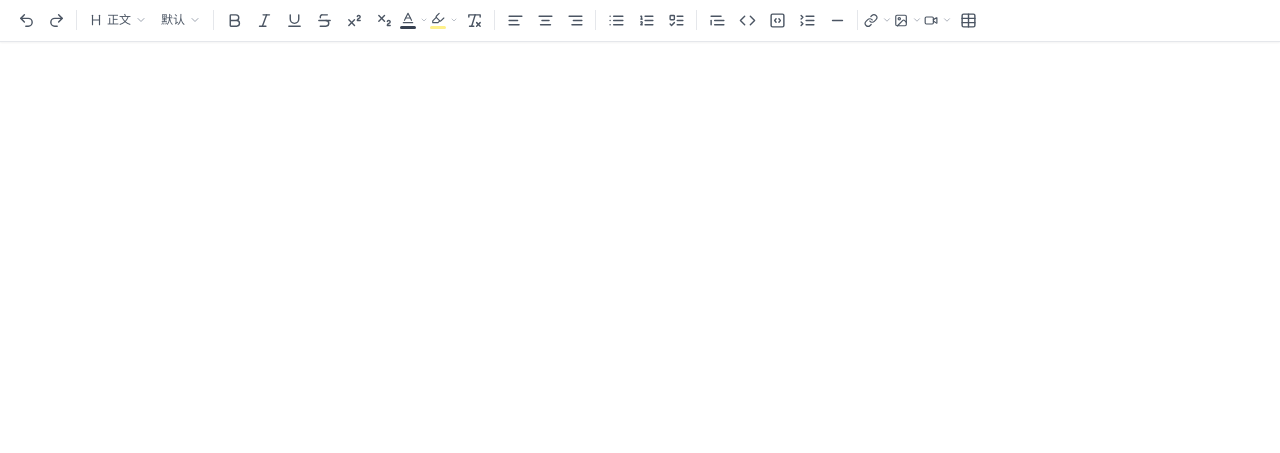
Scenario: the menus › opening one closes another
Click the button with aria-label "字号" at [181, 20], box [155,6,207,34]
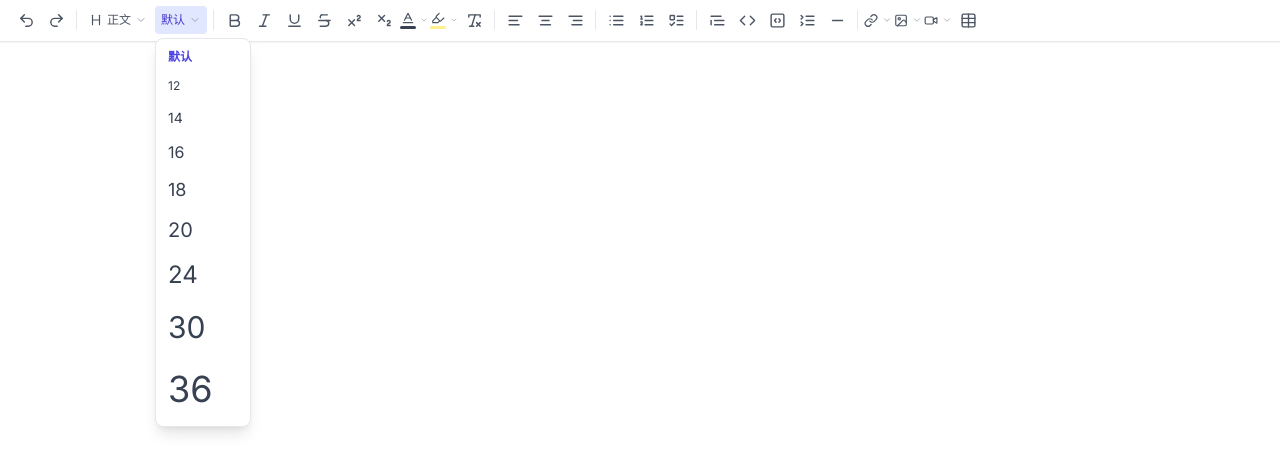
Press the mouse on the button with aria-label "段落样式" at [118, 20], box [83,6,153,34]
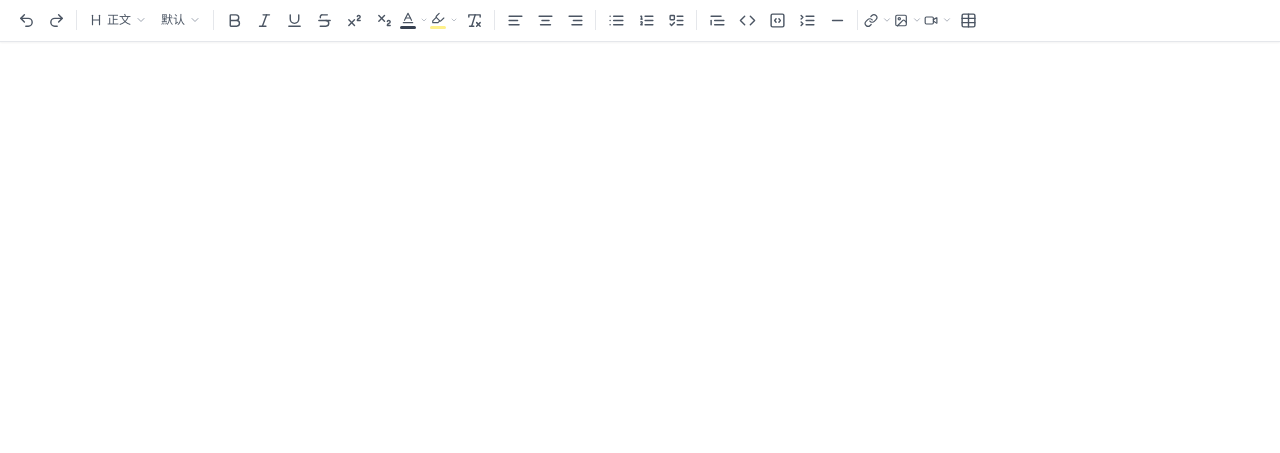
Click the button with aria-label "段落样式" at [118, 20], box [83,6,153,34]
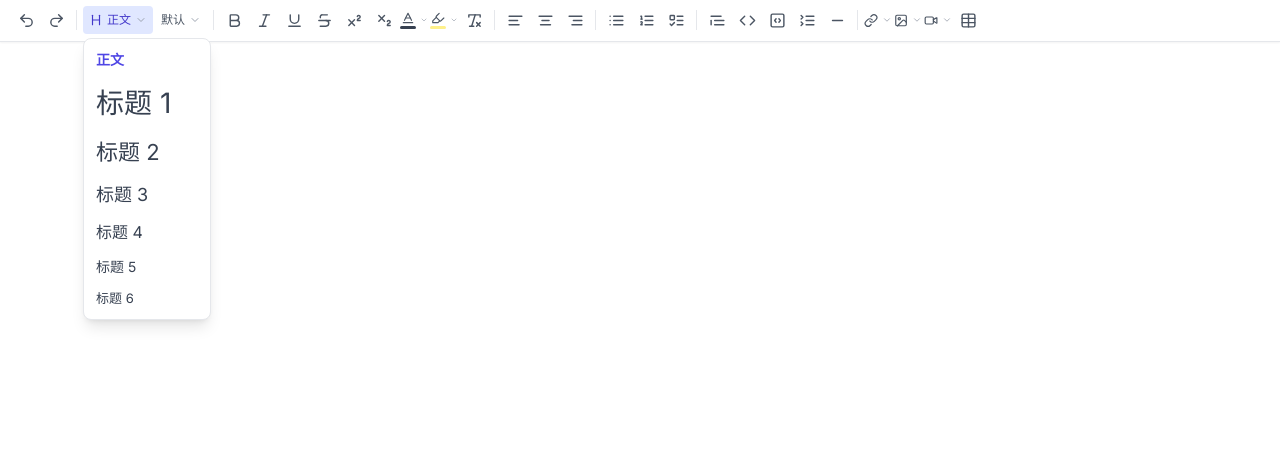
Check: the number of menus is 1, box [83,38,211,320]
Check: the menu item "标题 1" is shown, box [84,76,210,130]
